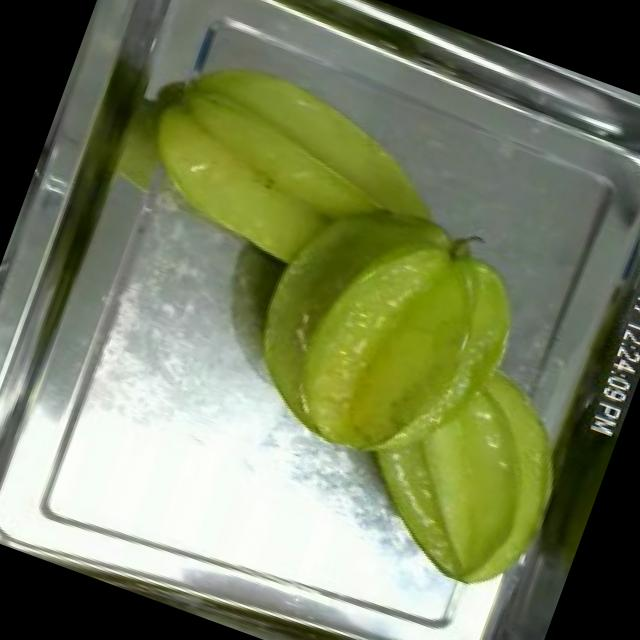fruit: (101, 19, 488, 324), (212, 174, 551, 504), (328, 324, 602, 616)
